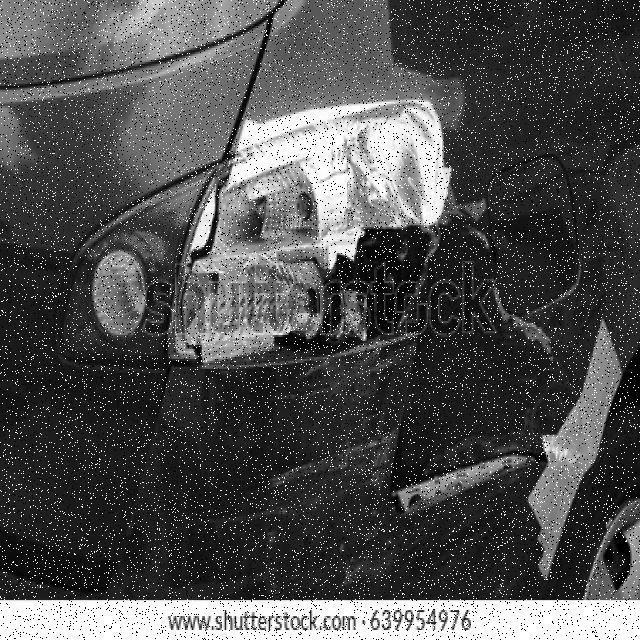Taillight-Damage: (67, 85, 461, 396)
quaterpanel-dent: (393, 0, 636, 600)
